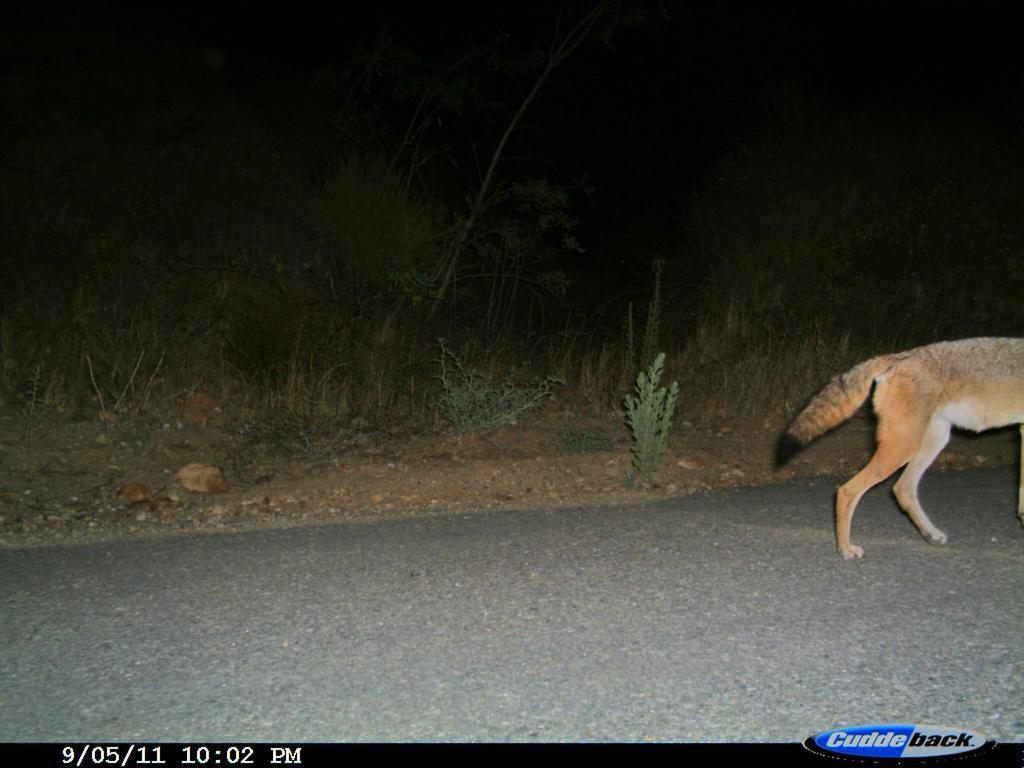coyote: (767, 333, 1022, 564)
